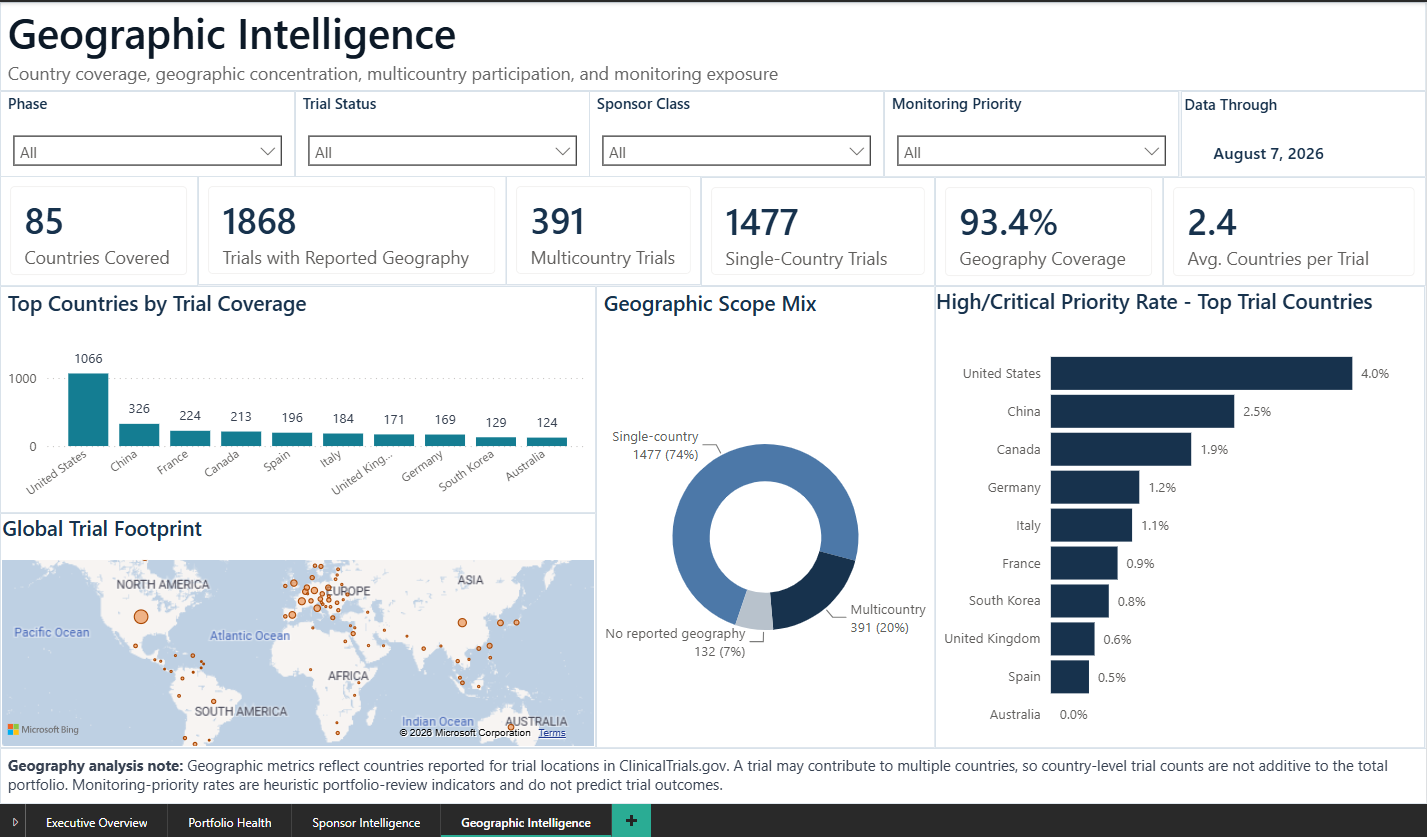

This screenshot's page, from the dashboard's own definition file:
{"tool":"powerbi","page":{"name":"Geographic Intelligence","canvas":[1280,720],"ordinal":3},"visuals":[{"type":"cardVisual","fields":{"Data":["_Measures.Countries Covered"]},"box":[0,156.2,177.8,98.8],"z":0},{"type":"cardVisual","fields":{"Data":["_Measures.Trials with Reported Geography"]},"box":[177.8,156.2,276.5,97.9],"z":1000},{"type":"cardVisual","fields":{"Data":["_Measures.Multicountry Trials"]},"box":[454.3,156.2,175.1,97.9],"z":2000},{"type":"cardVisual","fields":{"Data":["_Measures.Single-Country Trials"]},"box":[629.3,157.1,210.1,97.9],"z":3000},{"type":"cardVisual","fields":{"Data":["_Measures.Geography Coverage Rate"]},"box":[839.3,157.1,204.9,98.2],"z":4000},{"type":"cardVisual","fields":{"Data":["_Measures.Avg Countries per Geographic Trial"]},"box":[1044.2,157.1,235.6,98.2],"z":5000},{"type":"clusteredColumnChart","title":"Top Countries by Trial Coverage","fields":{"Y":["_Measures.Trials by Country"],"Category":["TrialCountries.country"]},"box":[0,255.2,535,203.7],"z":6000},{"type":"clusteredBarChart","title":"High/Critical Priority Rate - Top Trial Countries","fields":{"Y":["_Measures.High-Critical Priority Rate by Country"],"Category":["TrialCountries.country"]},"box":[839.3,255.2,440.5,414.7],"z":7000},{"type":"donutChart","title":"Geographic Scope Mix","fields":{"Category":["Trials.Geographic Scope"],"Y":["_Measures.Total Trials"]},"box":[535,255.2,304.3,414.7],"z":8000},{"type":"map","title":"Global Trial Footprint","fields":{"Category":["TrialCountries.country"],"Size":["_Measures.Trials by Country"]},"box":[0,458.9,535,211],"z":9000},{"type":"slicer","title":"Phase","fields":{"Values":["Trials.phase_clean"]},"box":[0,79.8,265,76.8],"z":10000},{"type":"slicer","title":"Trial Status","fields":{"Values":["Trials.status"]},"box":[264.6,79.8,265,76.8],"z":11000},{"type":"slicer","title":"Sponsor Class","fields":{"Values":["Trials.sponsor_class"]},"box":[529.1,79.8,265,76.8],"z":12000},{"type":"cardVisual","title":"Data Through","fields":{"Data":["_Measures.Latest Registry Update"]},"box":[1060.1,79.8,219.6,77.3],"z":13000},{"type":"textbox","title":"Geographic Intelligence","box":[0,0,1280,79.8],"z":14000},{"type":"textbox","box":[0,669.9,1281,50.3],"z":15000},{"type":"slicer","title":"Monitoring Priority","fields":{"Values":["Trials.risk_category"]},"box":[793.7,79.8,265,76.8],"z":16000}]}

Visuals, with their boxes on the page's 1280x720 design canvas (x1, y1, x2, y2). These are canvas units, not pixel positions in the 1427x837 screenshot, which may show the page scaled, cropped or inside an application window:
cardVisual - _Measures.Countries Covered: <box>0,156,178,255</box>
cardVisual - _Measures.Trials with Reported Geography: <box>178,156,454,254</box>
cardVisual - _Measures.Multicountry Trials: <box>454,156,629,254</box>
cardVisual - _Measures.Single-Country Trials: <box>629,157,839,255</box>
cardVisual - _Measures.Geography Coverage Rate: <box>839,157,1044,255</box>
cardVisual - _Measures.Avg Countries per Geographic Trial: <box>1044,157,1280,255</box>
"Top Countries by Trial Coverage" clusteredColumnChart: <box>0,255,535,459</box>
"High/Critical Priority Rate - Top Trial Countries" clusteredBarChart: <box>839,255,1280,670</box>
"Geographic Scope Mix" donutChart: <box>535,255,839,670</box>
"Global Trial Footprint" map: <box>0,459,535,670</box>
"Phase" slicer: <box>0,80,265,157</box>
"Trial Status" slicer: <box>265,80,530,157</box>
"Sponsor Class" slicer: <box>529,80,794,157</box>
"Data Through" cardVisual: <box>1060,80,1280,157</box>
"Geographic Intelligence" textbox: <box>0,0,1280,80</box>
textbox: <box>0,670,1281,720</box>
"Monitoring Priority" slicer: <box>794,80,1059,157</box>
